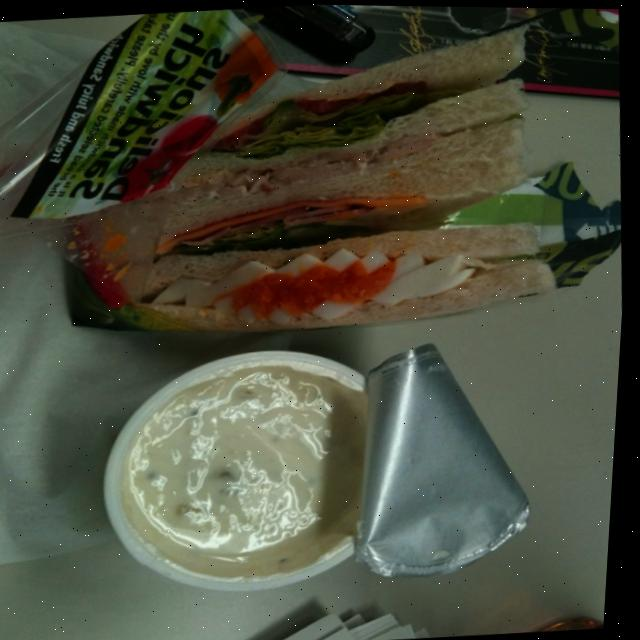三明治: (50, 5, 596, 351)
